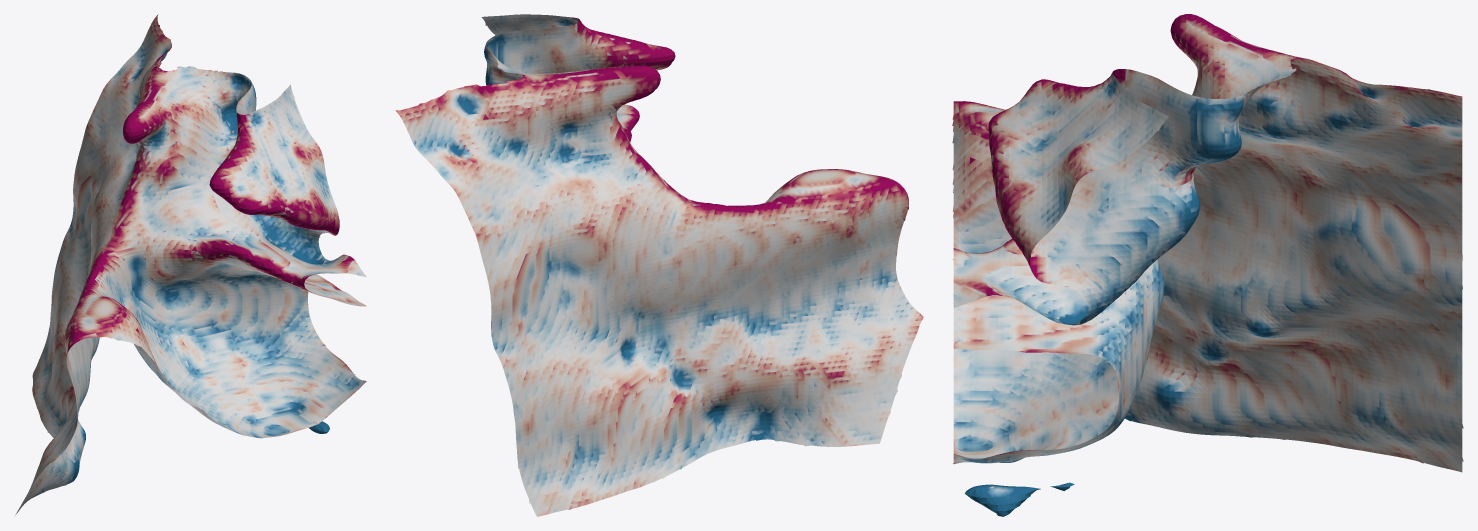
File: crop1147_curvature.glb
3 views of the same model, side by side, from view 1: azimuth 30°, elevation 25°; view 2: azimuth 150°, elevation 25°; view 3: azimuth 270°, elevation 25° (orthographic). The views are drawn at different scales.
Parts seen in each view (by area): view 1: world; view 2: world; view 3: world.
Boxes of the visible parts, box(x1,y1,x2,y2) form: world: box(15, 14, 366, 515); world: box(395, 14, 923, 516); world: box(952, 14, 1463, 516).
Bounding box in the file's own units: 1480 × 1479 × 1480.
